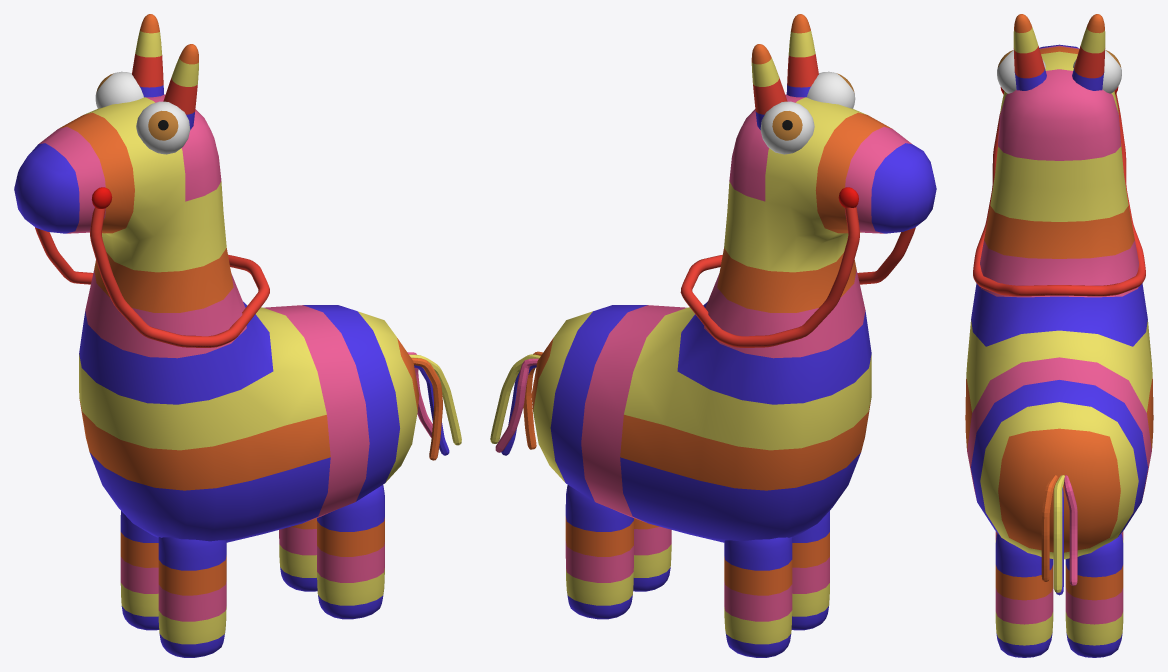
Rendered from PinatiaNormal.fbx.
3 renders of one model, left to right at view 1: azimuth 30°, elevation 25°; view 2: azimuth 150°, elevation 25°; view 3: azimuth 270°, elevation 25°, orthographic. The views are drawn at different scales.
Visible parts, largest first — view 1: Cube.001, Cube.101, Vert.053, Cube.102, Sphere.038, Vert.034, Vert.033; view 2: Cube.001, Cube.101, Vert.053, Cube.102, Sphere.038, Vert.032, Vert.033, Vert.034; view 3: Cube.001, Cube.101, Cube.102, Vert.053, Sphere.038, Vert.033, Vert.032, Vert.034.
Part boxes in pixels (x1,y1,x2,y2): Cube.001: [14, 94, 419, 542]; Cube.101: [120, 485, 384, 657]; Vert.053: [35, 207, 269, 347]; Cube.102: [132, 14, 198, 129]; Sphere.038: [95, 71, 190, 154]; Vert.034: [411, 358, 442, 460]; Vert.033: [409, 354, 461, 445]; Cube.001: [531, 94, 936, 542]; Cube.101: [565, 485, 829, 657]; Vert.053: [680, 207, 915, 347]; Cube.102: [751, 14, 818, 129]; Sphere.038: [760, 71, 855, 154]; Vert.032: [495, 358, 538, 452]; Vert.033: [490, 354, 540, 443]; Vert.034: [523, 351, 542, 449]; Cube.001: [965, 44, 1153, 559]; Cube.101: [995, 531, 1123, 657]; Cube.102: [1013, 14, 1105, 90]; Vert.053: [973, 93, 1145, 296]; Sphere.038: [997, 50, 1121, 93]; Vert.033: [1053, 475, 1064, 592]; Vert.032: [1064, 475, 1077, 585]; Vert.034: [1041, 475, 1057, 581].
Bounding box in the file's own units: 73.59 × 96.88 × 29.44.
